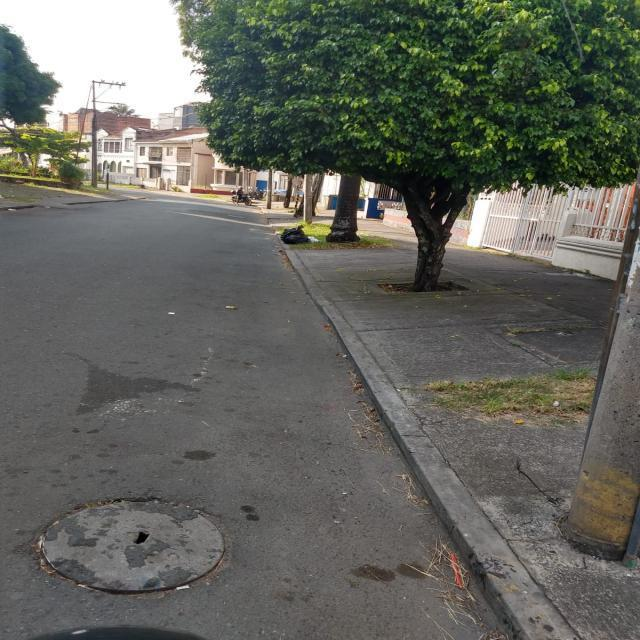Garbage_Bag: (280, 224, 310, 244)
